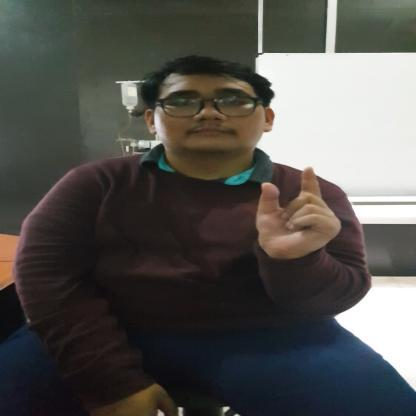U: (253, 164, 343, 260)
